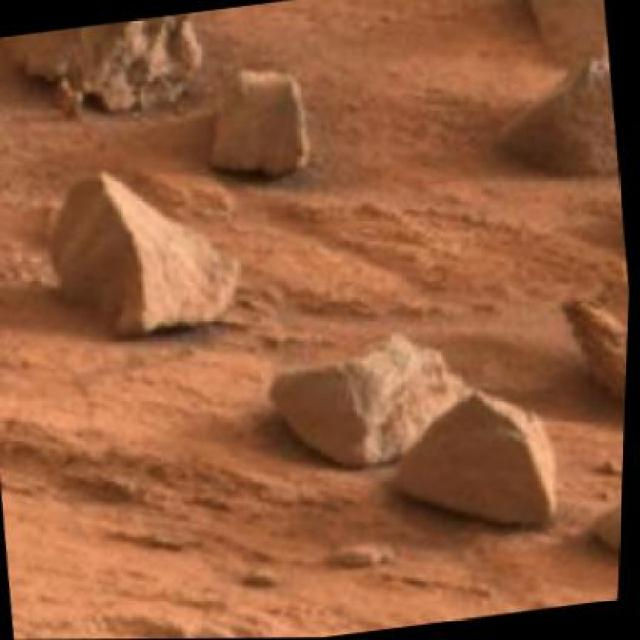rock: (38, 151, 254, 344), (271, 317, 487, 485), (384, 384, 578, 548), (0, 10, 222, 136), (480, 52, 622, 196), (199, 65, 316, 180), (515, 0, 614, 106), (590, 478, 624, 600), (0, 55, 15, 178), (0, 282, 6, 388)
